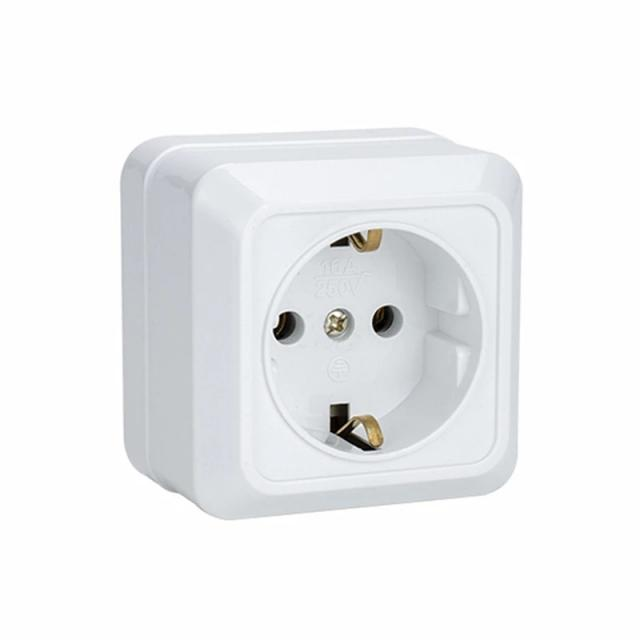typeb: (99, 102, 550, 498)
